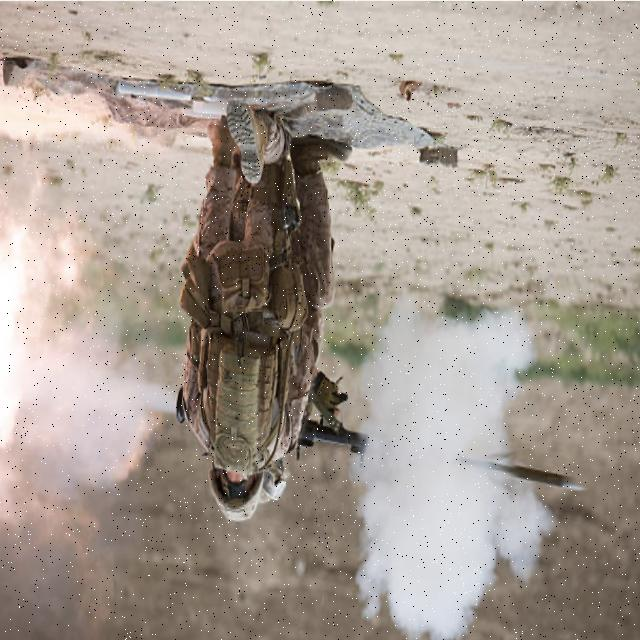bazooka: (290, 400, 381, 480)
